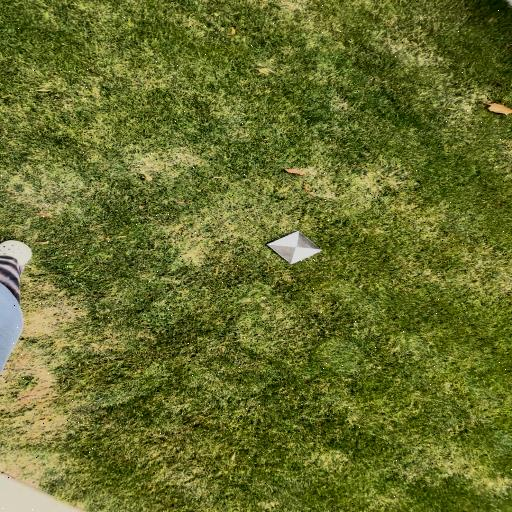target: (267, 231, 323, 264)
